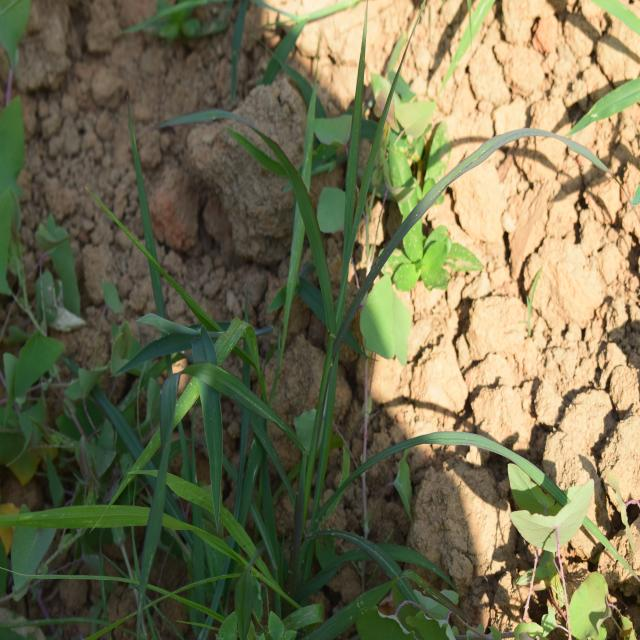green_foxtail: (142, 72, 474, 578)
